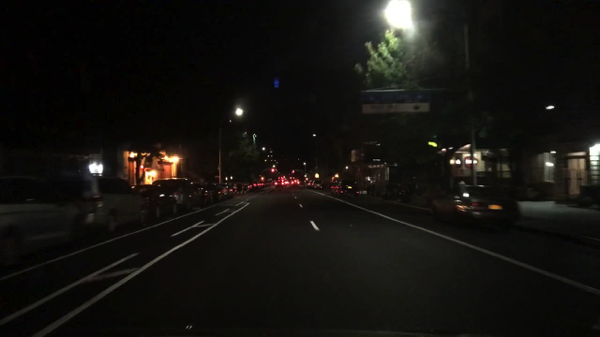car: (0, 174, 88, 264), (49, 172, 149, 236), (428, 184, 520, 228), (131, 184, 178, 219), (152, 177, 194, 214), (186, 181, 207, 212), (380, 182, 411, 202), (202, 183, 223, 206), (335, 177, 359, 196), (214, 183, 234, 199), (365, 182, 383, 197), (232, 182, 248, 194), (310, 179, 323, 190), (274, 178, 286, 189), (289, 177, 300, 188), (242, 181, 252, 192), (329, 181, 338, 193), (249, 180, 259, 190), (256, 181, 265, 189), (306, 179, 313, 188), (267, 178, 274, 186), (284, 179, 290, 186), (264, 181, 270, 187)
traffic sign: (360, 88, 431, 112), (463, 156, 477, 169), (314, 173, 319, 178), (214, 175, 220, 178)
